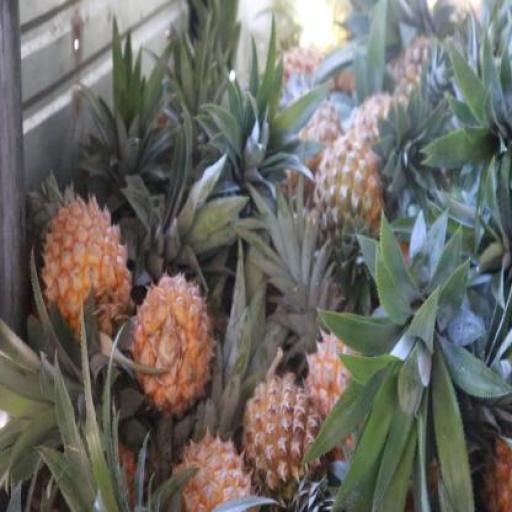Pineapple - v8 v1: (40, 195, 131, 342), (241, 365, 320, 511), (132, 274, 211, 408), (169, 423, 251, 512)
